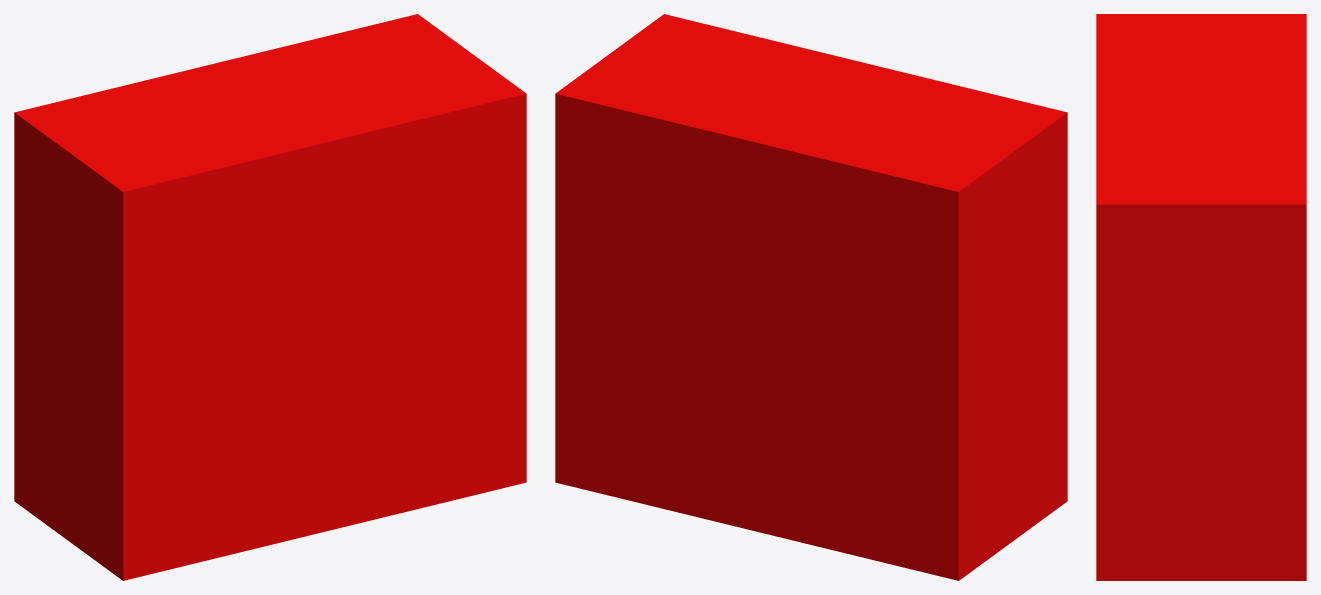
File: distal_phalanx2_lvs_col.dae
3 views of the same model, side by side, from view 1: azimuth 30°, elevation 25°; view 2: azimuth 150°, elevation 25°; view 3: azimuth 270°, elevation 25° (orthographic). The views are drawn at different scales.
Visible parts, largest first — view 1: node0; view 2: node0; view 3: node0.
Boxes of the visible parts, x1,y1,x2,y2 form: node0: [14, 14, 526, 580]; node0: [555, 14, 1067, 580]; node0: [1096, 14, 1306, 580].
Size of the model in its own units: 0.00736 by 0.00678 by 0.00344.
